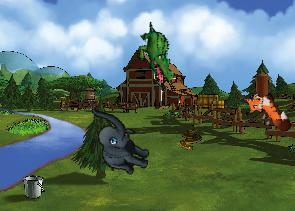crocodile: (124, 20, 189, 89)
elephant: (77, 105, 159, 178)
fox: (237, 82, 294, 144)
